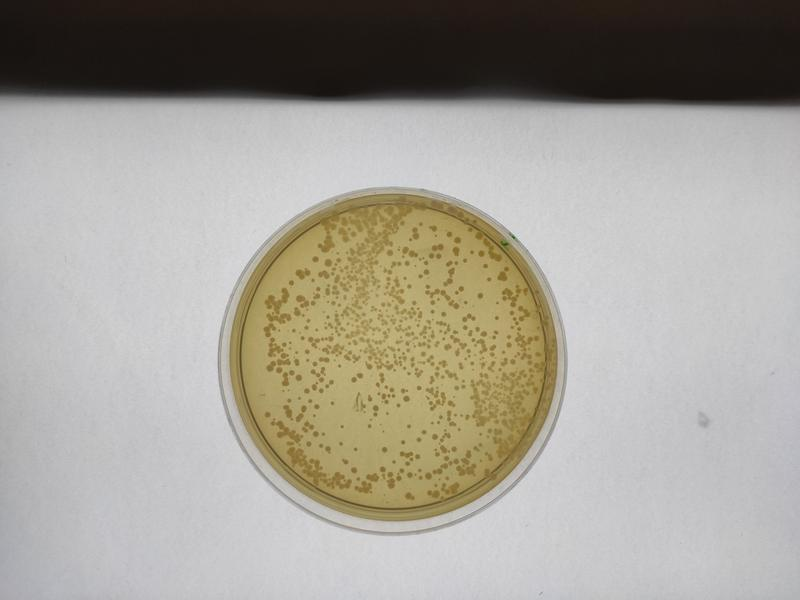colony: (377, 440, 391, 456), (471, 288, 487, 301), (307, 253, 320, 264)
